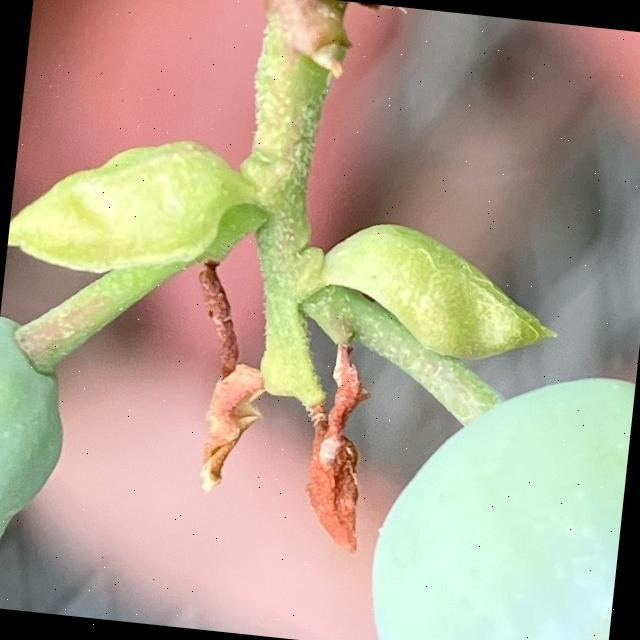Blueberries: (356, 349, 636, 640)
